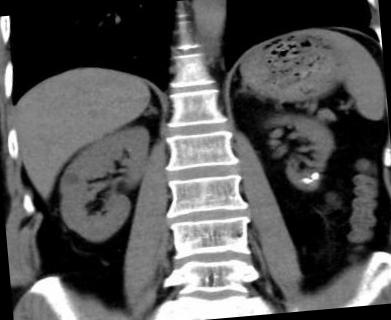Tas_Var: (309, 172, 322, 182), (300, 177, 313, 186)
